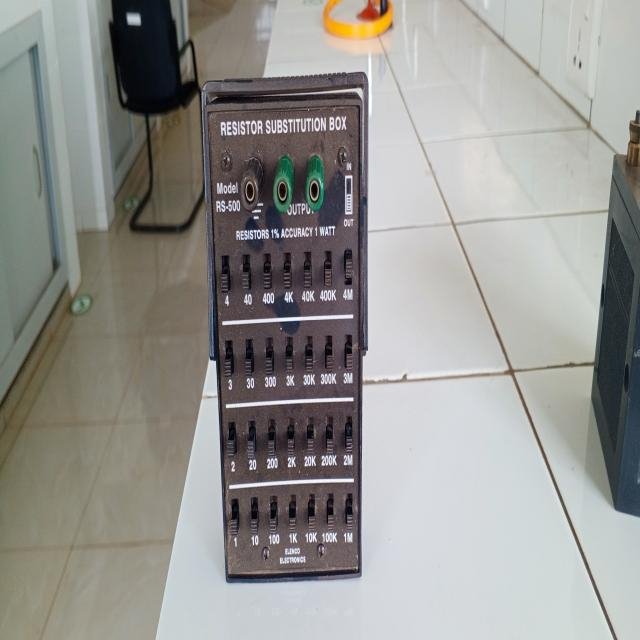Set of Resistances: (196, 82, 372, 600)
